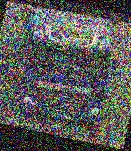truck: (0, 0, 131, 139)
